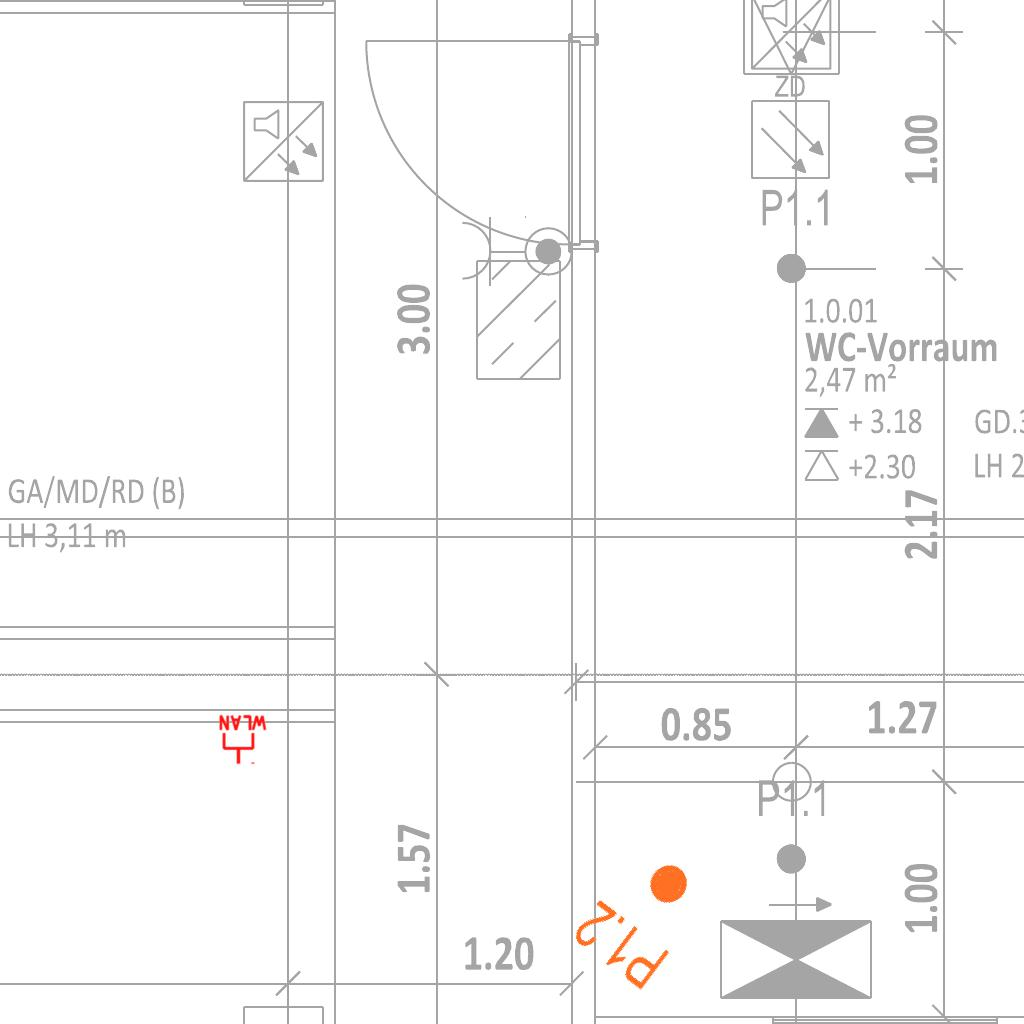Downlight_LED_Einbauleuchten_Flur: (566, 836, 719, 996)
WLAN: (217, 714, 269, 766)
